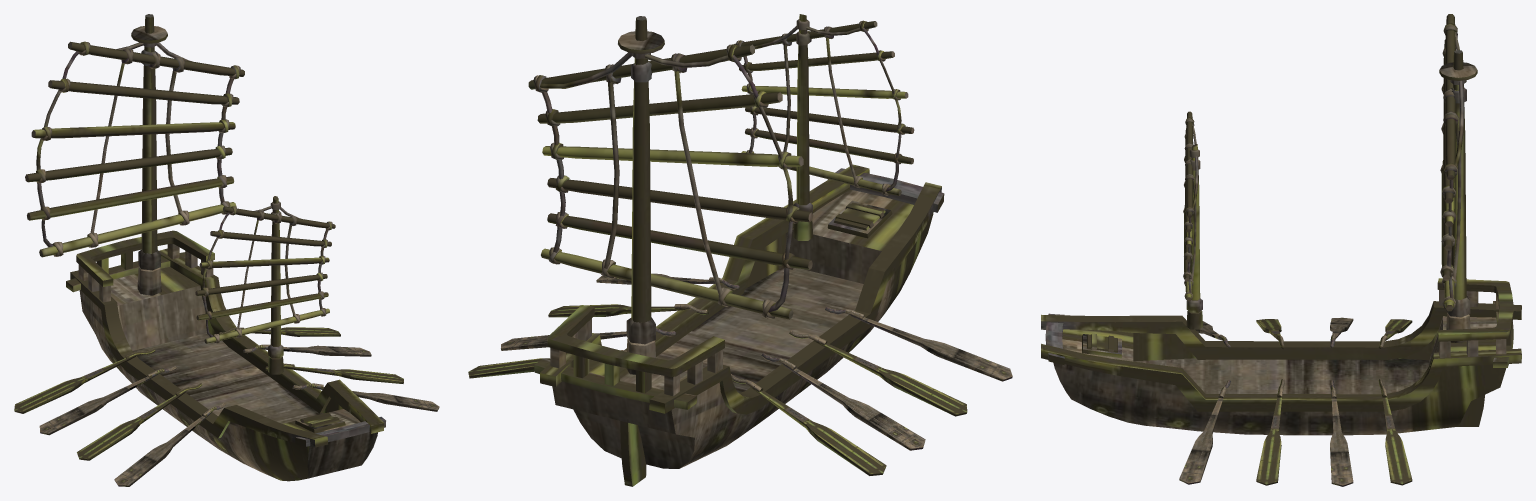
File: 265-doujian.glb
3 renders of one model, left to right at view 1: azimuth 30°, elevation 25°; view 2: azimuth 150°, elevation 25°; view 3: azimuth 270°, elevation 25°, orthographic. The views are drawn at different scales.
Bounding box in the file's own units: 5.51 × 5.72 × 6.67.
Materials: 1 (1 with a texture image).
